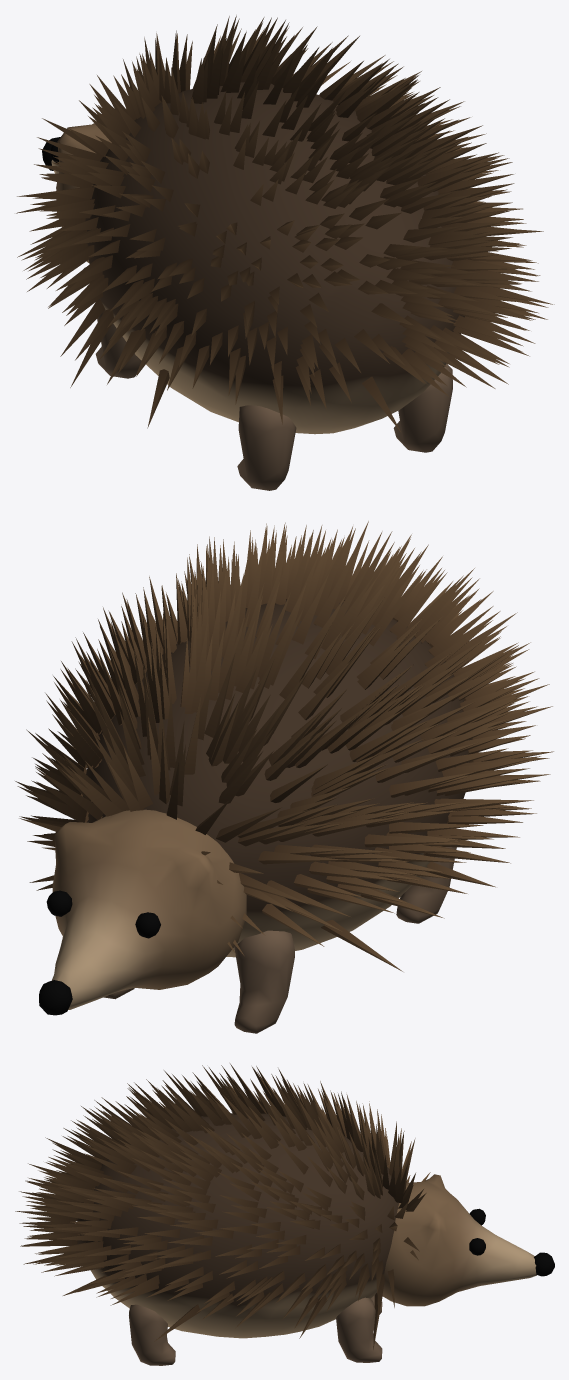
File: animal_hedgehog.glb
3 renders of one model, top to bottom at view 1: azimuth 30°, elevation 25°; view 2: azimuth 150°, elevation 25°; view 3: azimuth 270°, elevation 25°, orthographic. The views are drawn at different scales.
Visible parts, largest first — view 1: Spikes, Body, LegBL, LegBR, Head, LegFL; view 2: Spikes, Head, Body, LegFL, LegBL; view 3: Spikes, Body, Head, LegFR, LegBR.
Part boxes in pixels (bbox=[...]): Spikes: bbox=[16, 15, 554, 431]; Body: bbox=[85, 82, 464, 434]; LegBL: bbox=[237, 405, 296, 490]; LegBR: bbox=[393, 363, 452, 452]; Head: bbox=[42, 109, 126, 263]; LegFL: bbox=[95, 298, 141, 378]; Spikes: bbox=[15, 521, 553, 971]; Head: bbox=[39, 809, 246, 1015]; Body: bbox=[83, 600, 471, 957]; LegFL: bbox=[234, 930, 294, 1033]; LegBL: bbox=[396, 847, 456, 923]; Spikes: bbox=[15, 1063, 432, 1349]; Body: bbox=[77, 1113, 398, 1338]; Head: bbox=[382, 1174, 554, 1306]; LegFR: bbox=[336, 1297, 382, 1362]; LegBR: bbox=[129, 1304, 175, 1365].
Size of the model in its own units: 0.1963 by 0.1654 by 0.3142.
